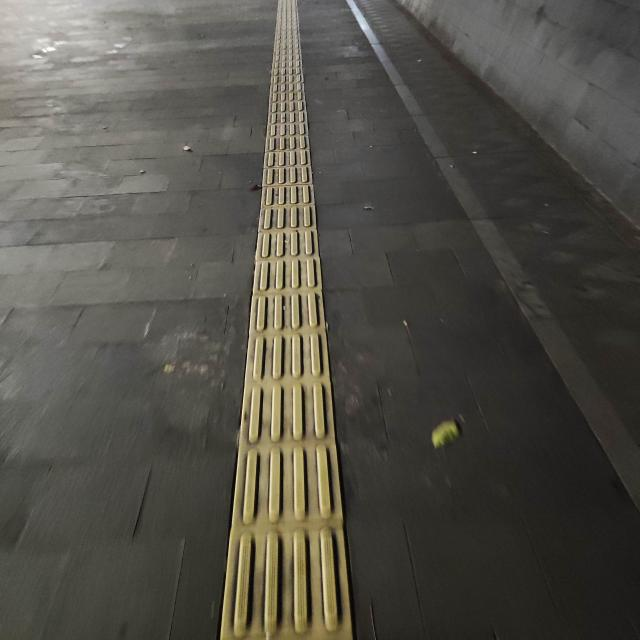lurus: (216, 26, 362, 640)
